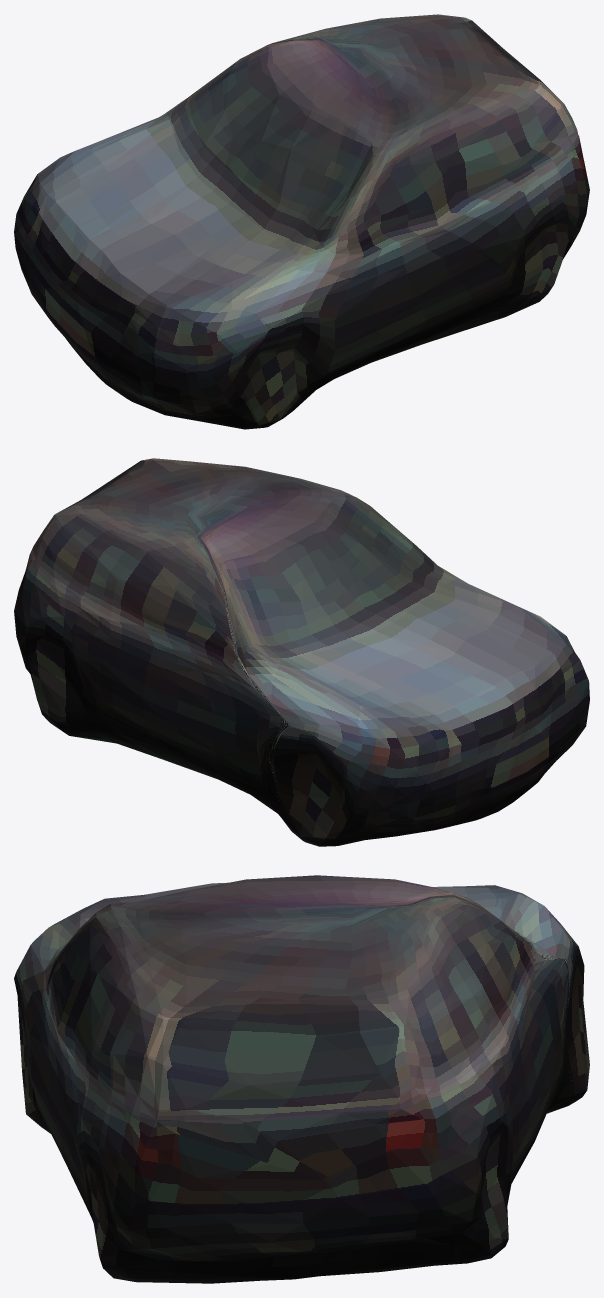
Rendered from video3_213.obj.
The picture shows the model from 3 angles, top to bottom: view 1: azimuth 30°, elevation 25°; view 2: azimuth 150°, elevation 25°; view 3: azimuth 270°, elevation 25°; orthographic projection. The views are drawn at different scales.
Bounding box in the file's own units: 1 × 0.5036 × 0.7477.
1 material, 1 textured.
